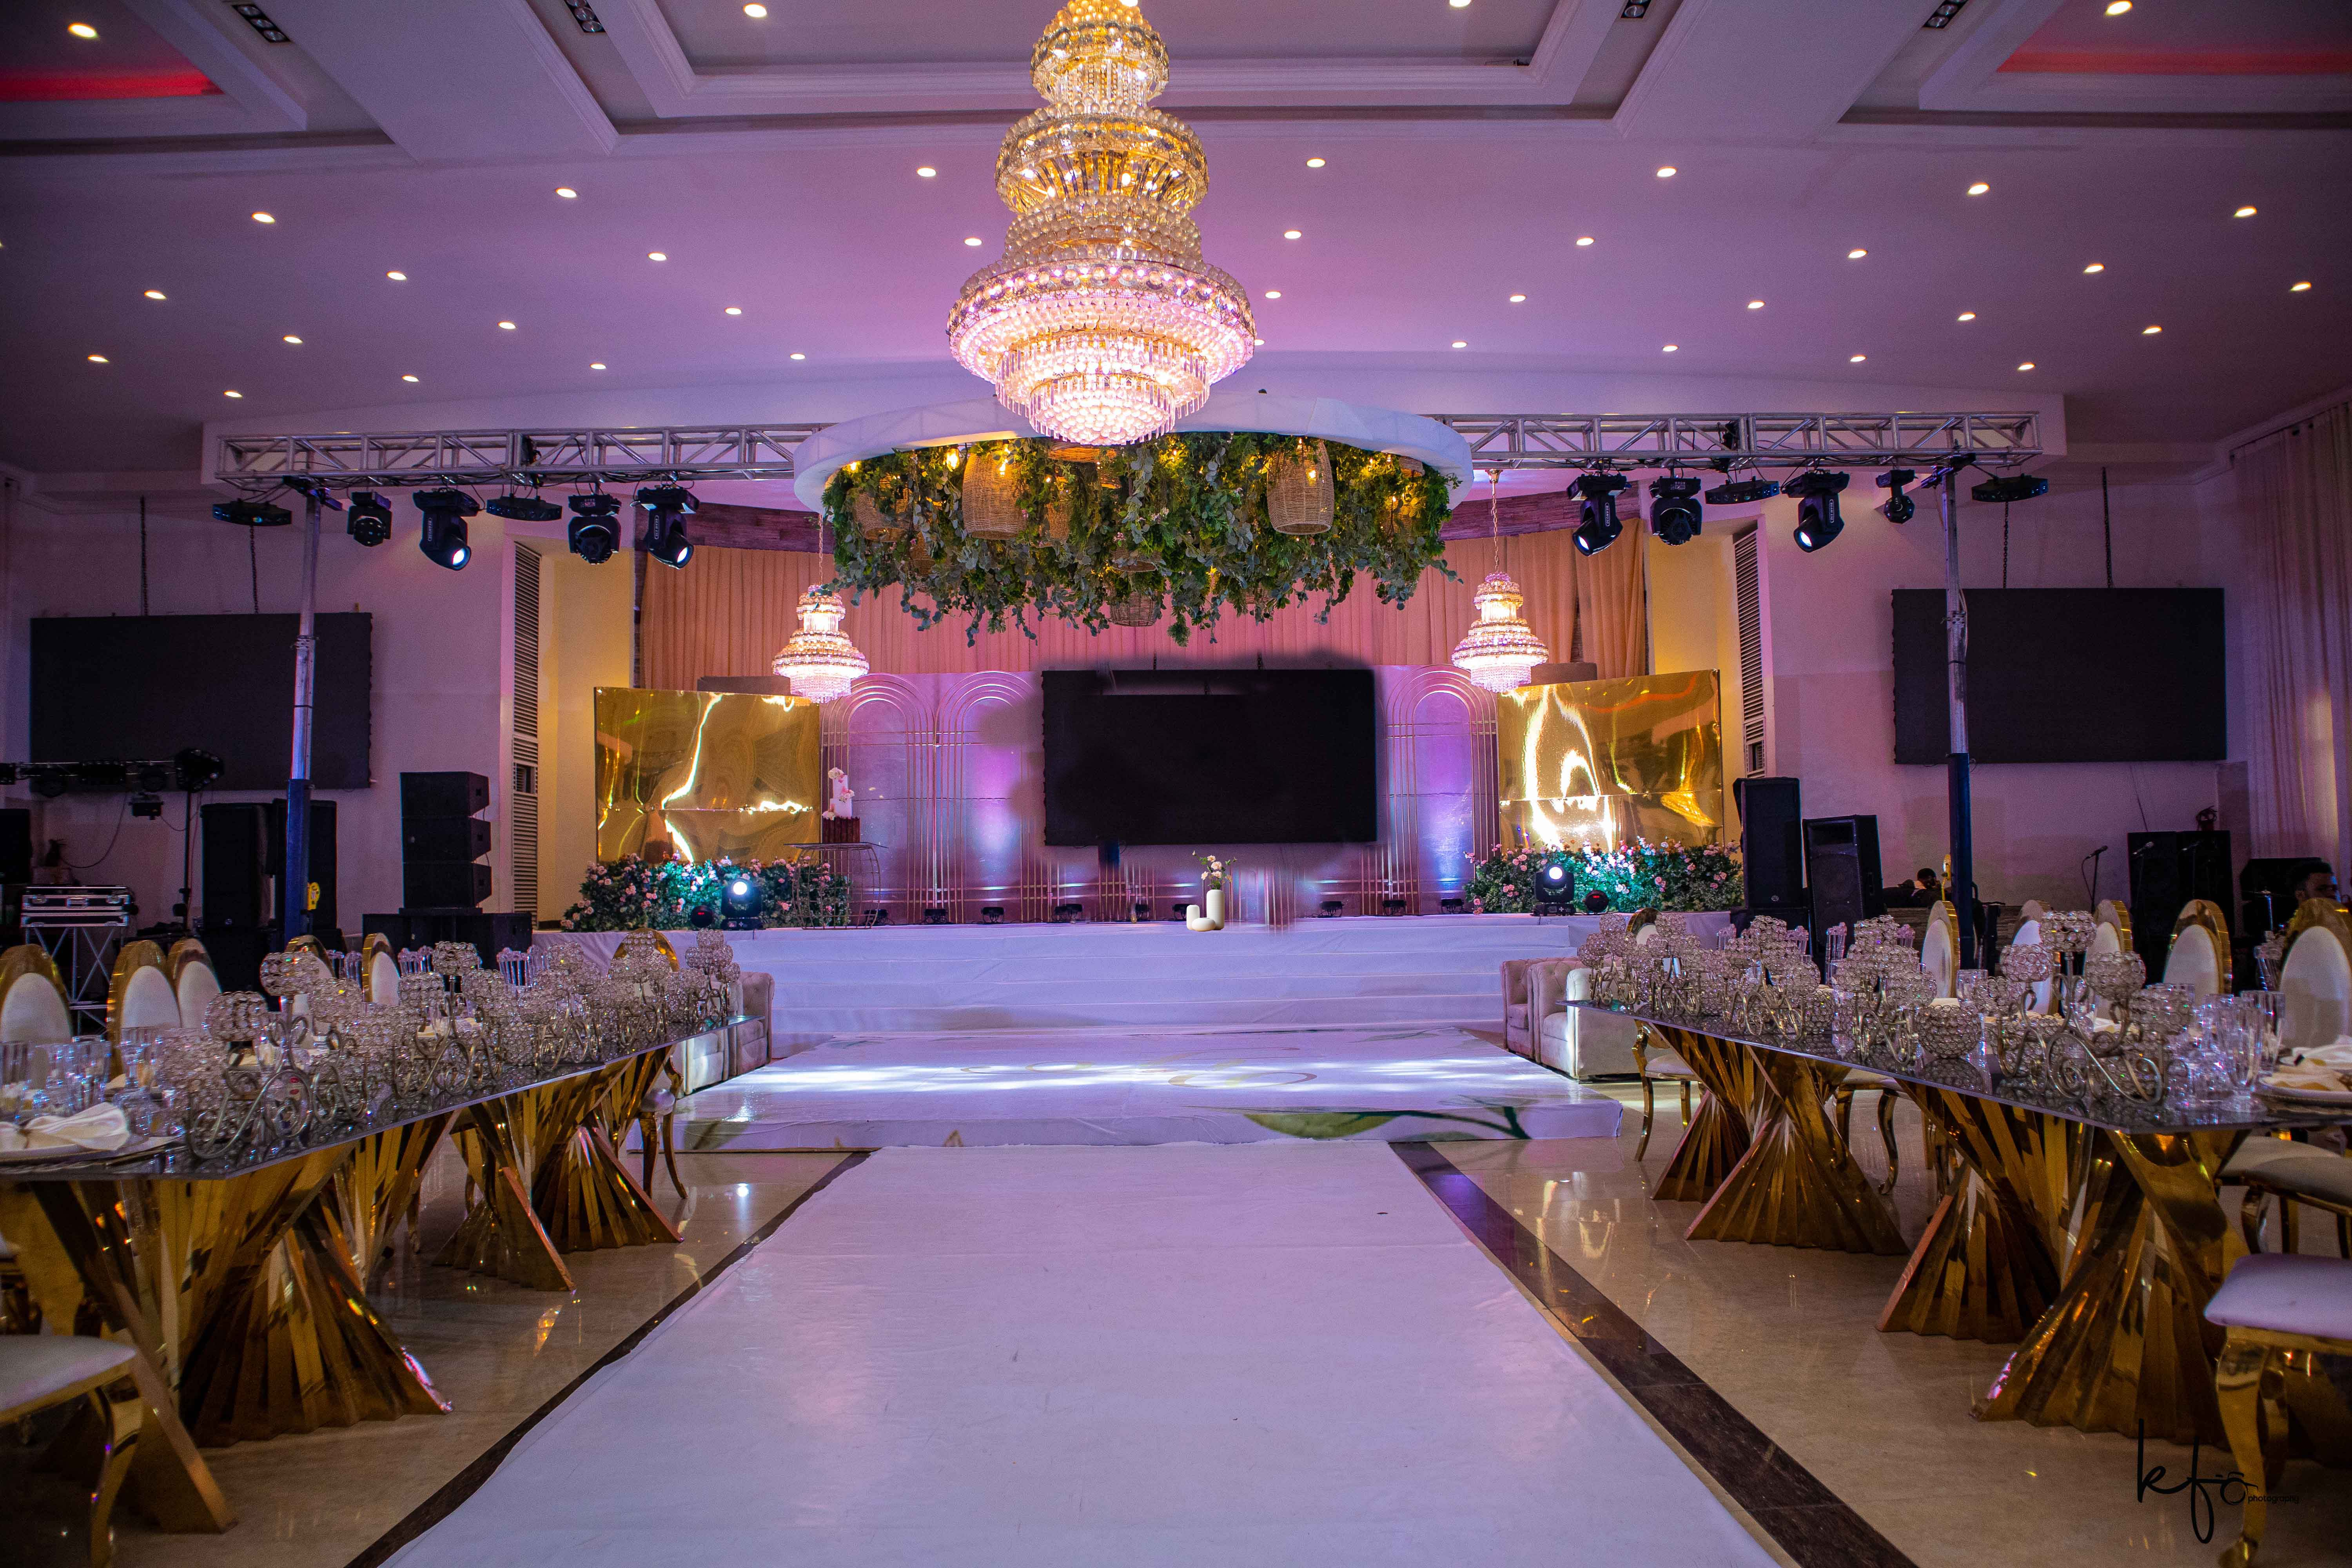copymove: (1052, 660, 1379, 842)
removal: (1129, 845, 1288, 926)
spliced: (1185, 851, 1235, 935)
